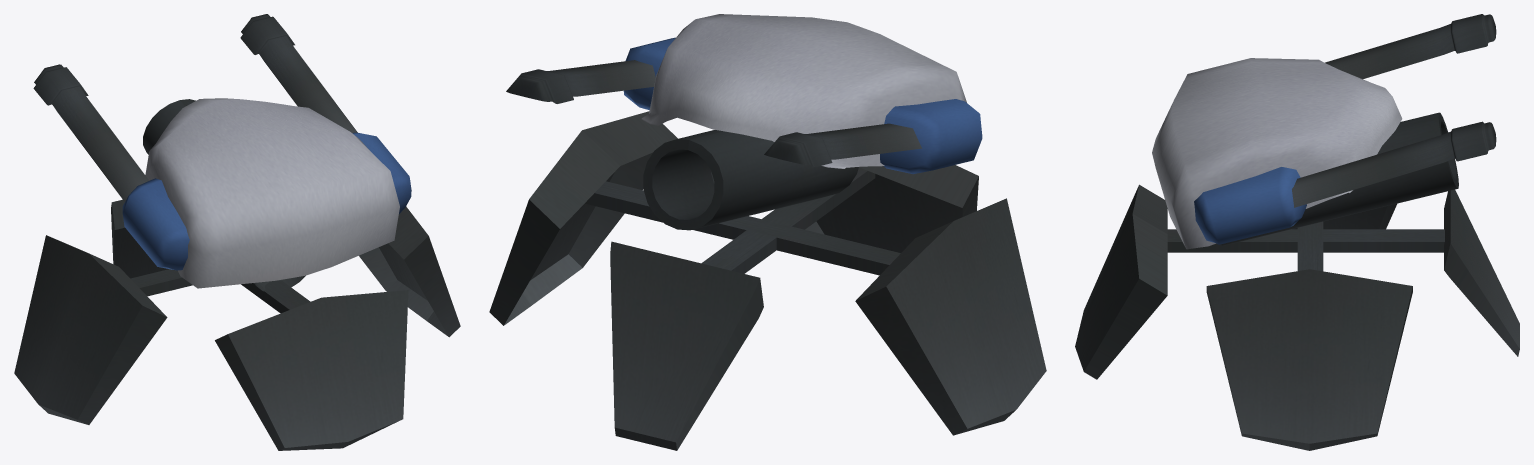
The model's file is mortar03.fbx.
The picture shows the model from 3 angles, left to right: view 1: azimuth 30°, elevation 25°; view 2: azimuth 150°, elevation 25°; view 3: azimuth 270°, elevation 25°; orthographic projection. The views are drawn at different scales.
Visible parts, largest first — view 1: polySurface578, polySurface574; view 2: polySurface574, polySurface578; view 3: polySurface574, polySurface578.
Boxes of the visible parts, <box> form: polySurface578: <box>33,14,411,291</box>; polySurface574: <box>14,199,460,450</box>; polySurface574: <box>489,111,1046,450</box>; polySurface578: <box>506,14,982,230</box>; polySurface574: <box>1075,184,1519,450</box>; polySurface578: <box>1152,14,1496,249</box>.
Bounding box in the file's own units: 24.55 × 15.78 × 22.22.
